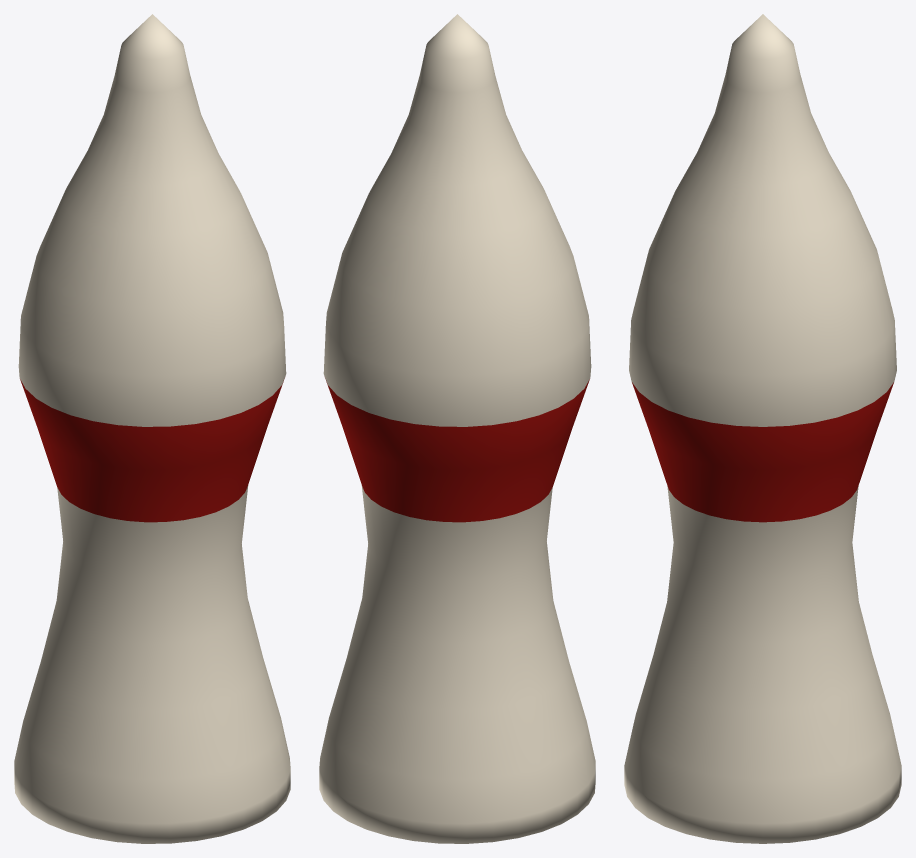
Rendered from bowling_pin.obj.
3 views of the same model, side by side, from view 1: azimuth 30°, elevation 25°; view 2: azimuth 150°, elevation 25°; view 3: azimuth 270°, elevation 25° (orthographic).
Visible parts, largest first — view 1: Bowling_Pin; view 2: Bowling_Pin; view 3: Bowling_Pin.
Part boxes in pixels (bbox=[...]): Bowling_Pin: bbox=[14, 14, 290, 843]; Bowling_Pin: bbox=[319, 14, 595, 843]; Bowling_Pin: bbox=[624, 14, 901, 843].
Bounding box in the file's own units: 0.124 × 0.381 × 0.124.
